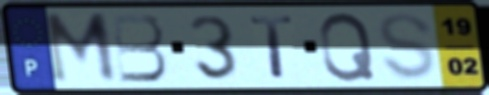3: (188, 13, 241, 82)
B: (109, 12, 171, 84)
M: (40, 10, 120, 87)
Q: (316, 10, 378, 84)
S: (375, 10, 439, 82)
T: (247, 14, 298, 80)
